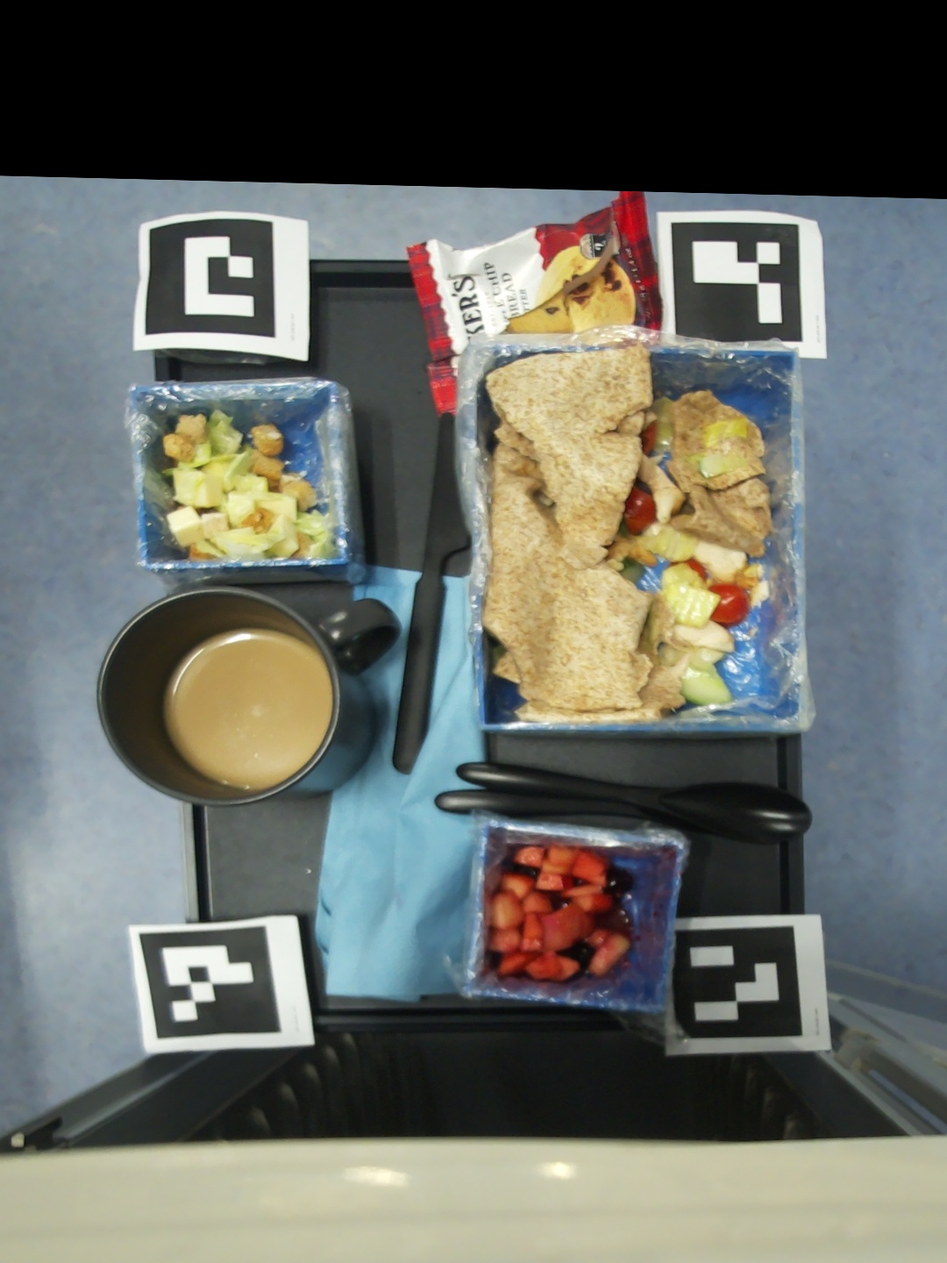coffee_cup: (97, 589, 401, 806)
cookie: (405, 192, 663, 419)
fruit_salad: (484, 842, 633, 981)
side_salad: (162, 410, 342, 560)
wrap_half_1: (482, 340, 721, 724)
wrap_half_2: (607, 389, 773, 705)
